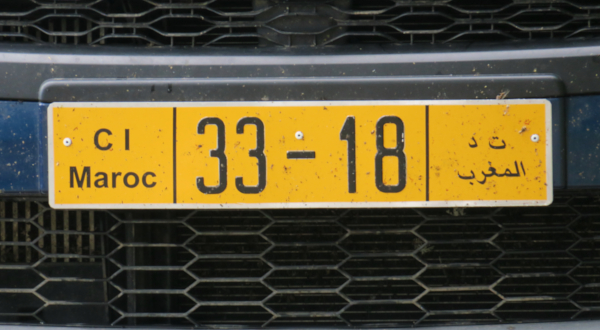number_plate: (48, 102, 550, 206)
